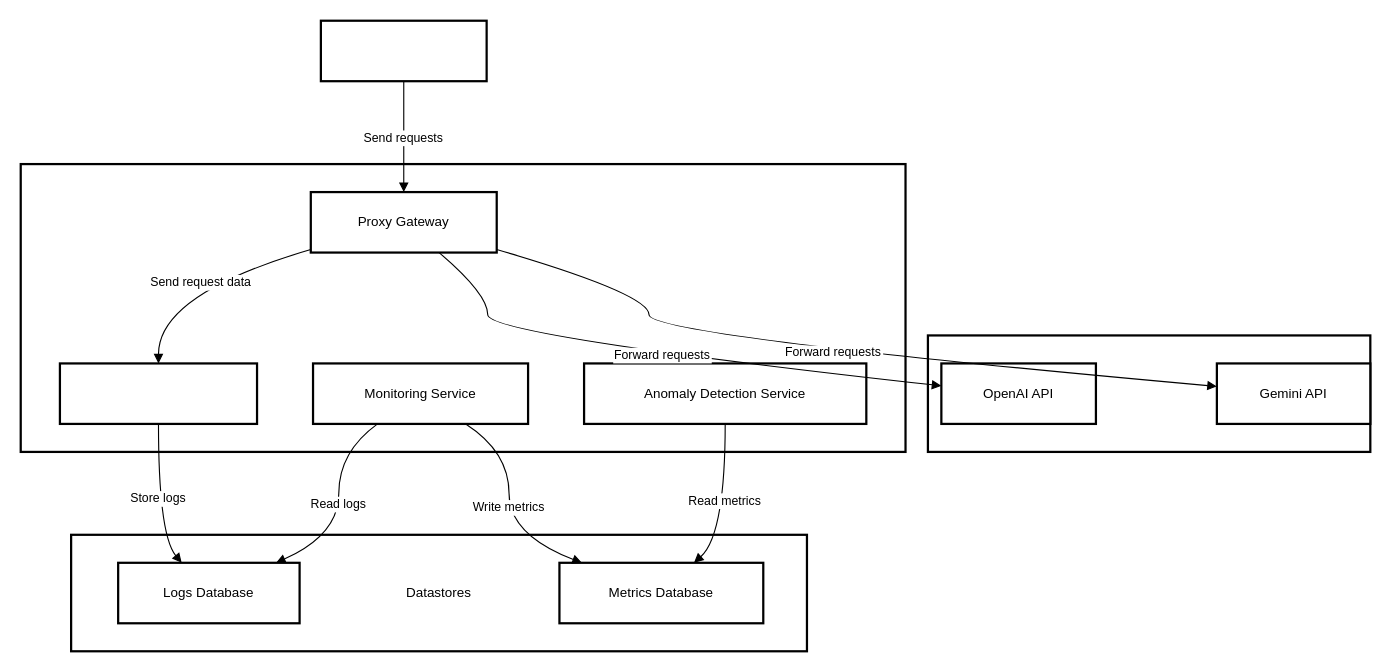
The diagram is 1390 pixels wide and 671 high, and some of its shapes have lost their labels. The box of each missing label's shape, as (x1, y1, x2, y2) in pixels:
Applications: (319, 19, 487, 82)
External Systems: (926, 334, 1371, 452)
LLM API Wrapper System: (19, 162, 906, 452)
Tracking Service: (58, 362, 258, 424)
